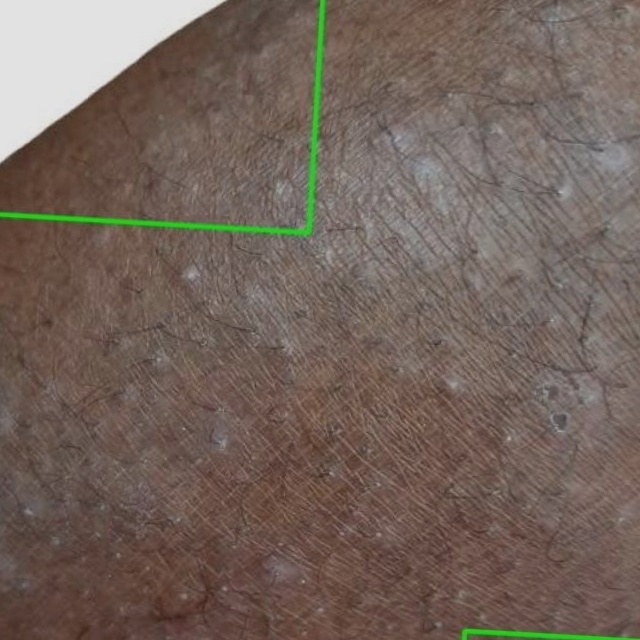Scabies: (0, 0, 322, 232)
